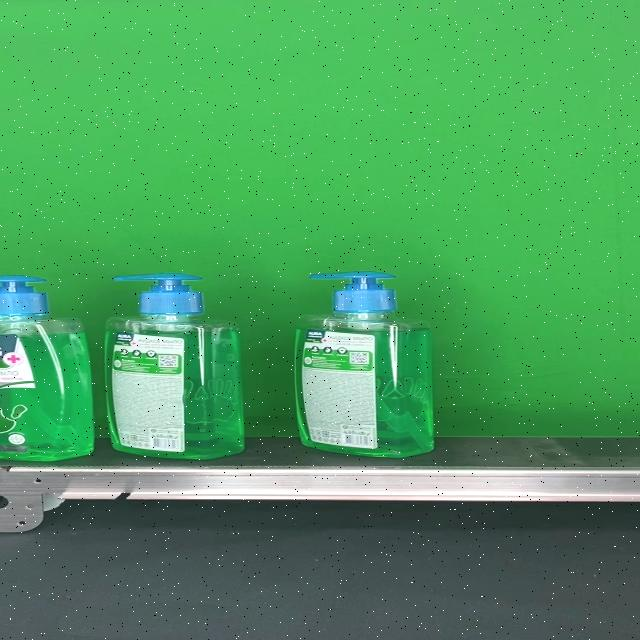Bottle: (294, 270, 434, 458), (105, 273, 244, 459)
Cap: (113, 273, 204, 315), (310, 271, 398, 312)
